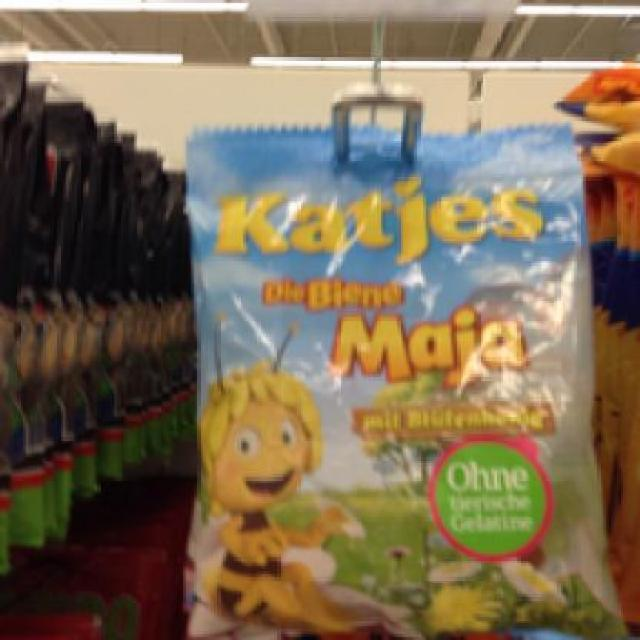Candy: (185, 128, 618, 638)
